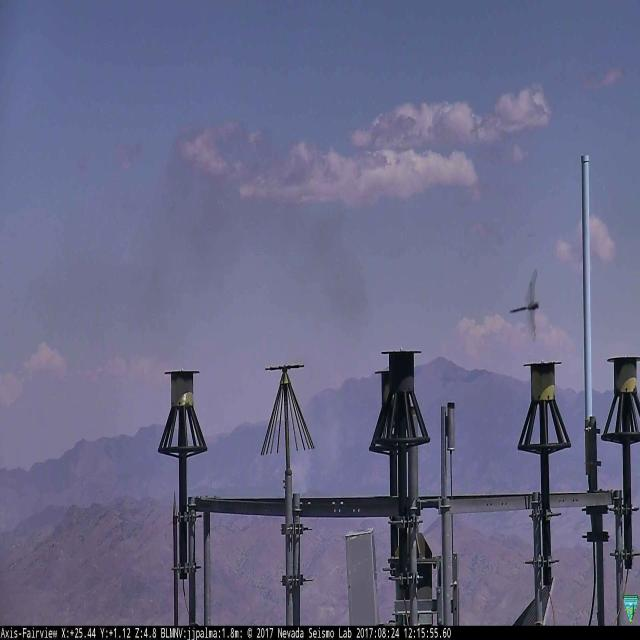smoke: (15, 116, 375, 392), (285, 393, 364, 486)
